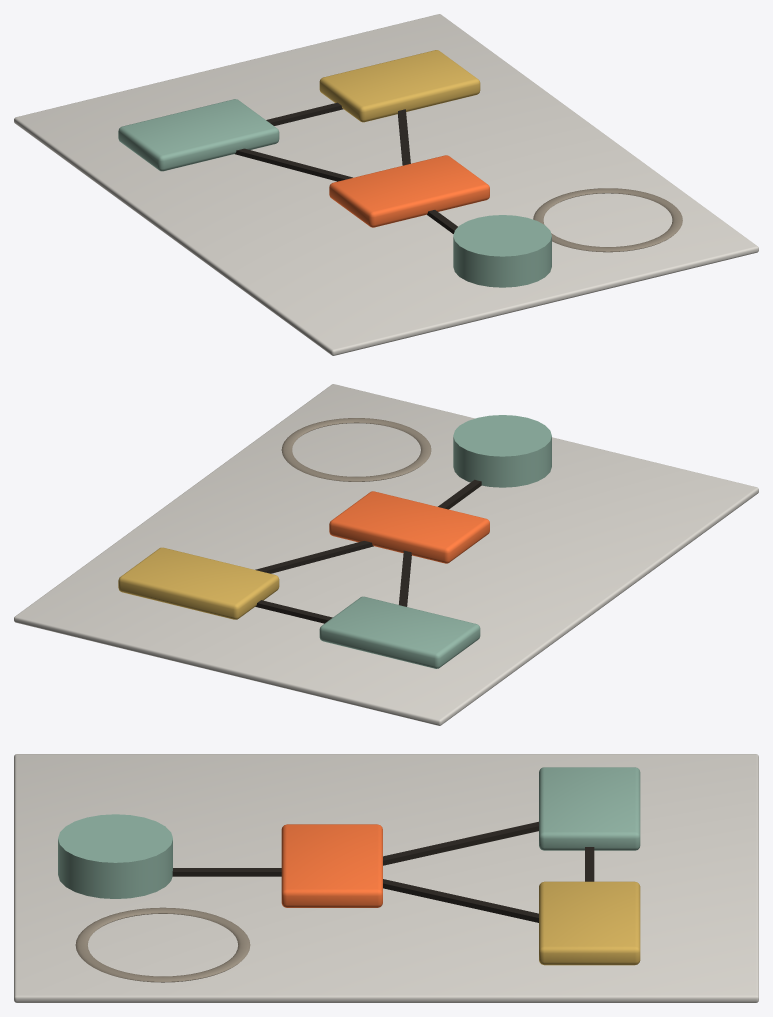
The model's file is arsitektur.glb.
3 views of the same model, one above another, from view 1: azimuth 30°, elevation 25°; view 2: azimuth 150°, elevation 25°; view 3: azimuth 270°, elevation 25° (orthographic). The views are drawn at different scales.
Visible parts, largest first — view 1: arsitektur; view 2: arsitektur; view 3: arsitektur.
Boxes of the visible parts, x1=… form: arsitektur: x1=14, y1=14, x2=758, y2=355; arsitektur: x1=14, y1=384, x2=758, y2=725; arsitektur: x1=14, y1=754, x2=758, y2=1002.
Bounding box in the file's own units: 0.7727 × 0.0645 × 1.
